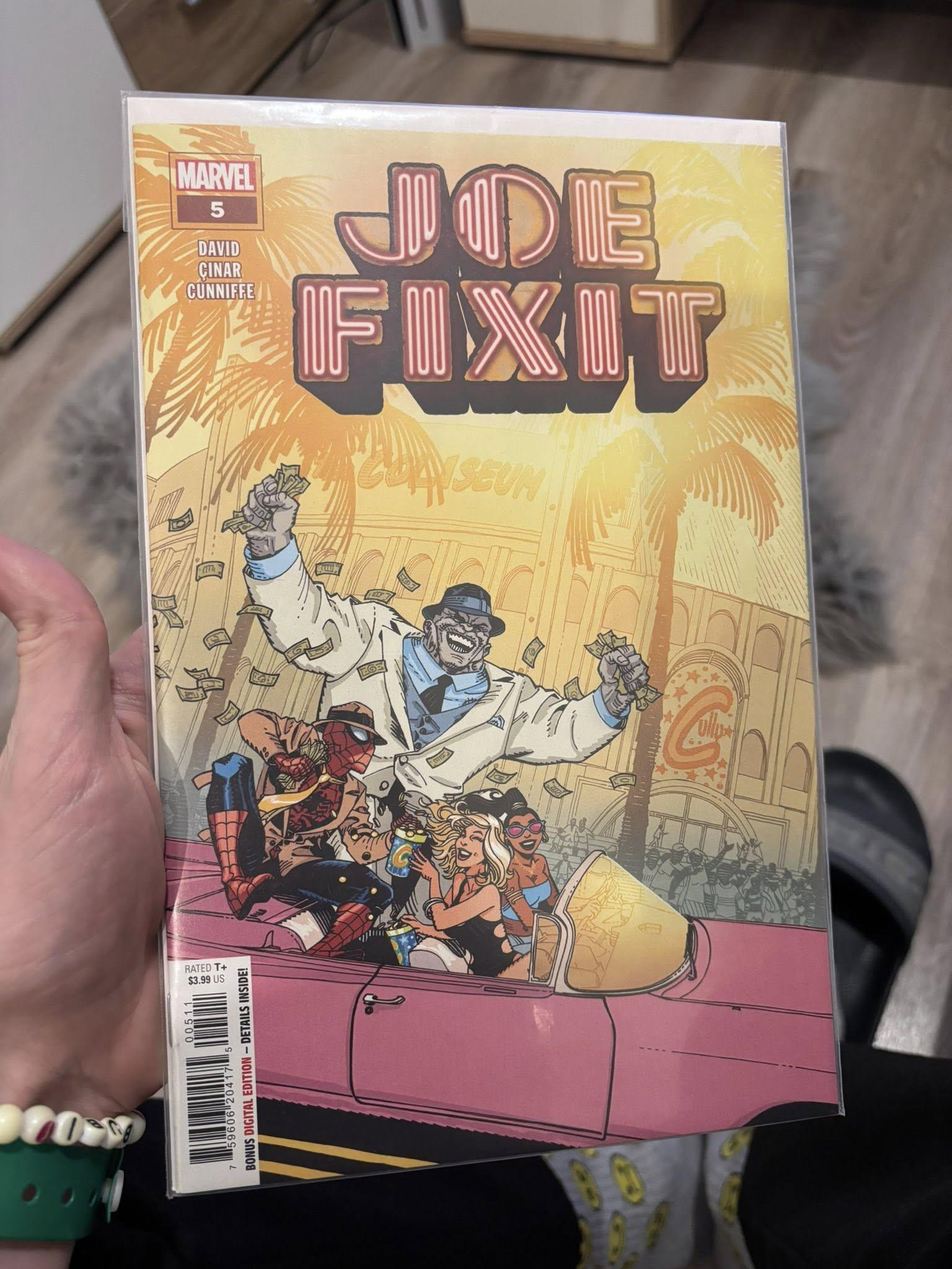comic: (123, 66, 842, 1193)
